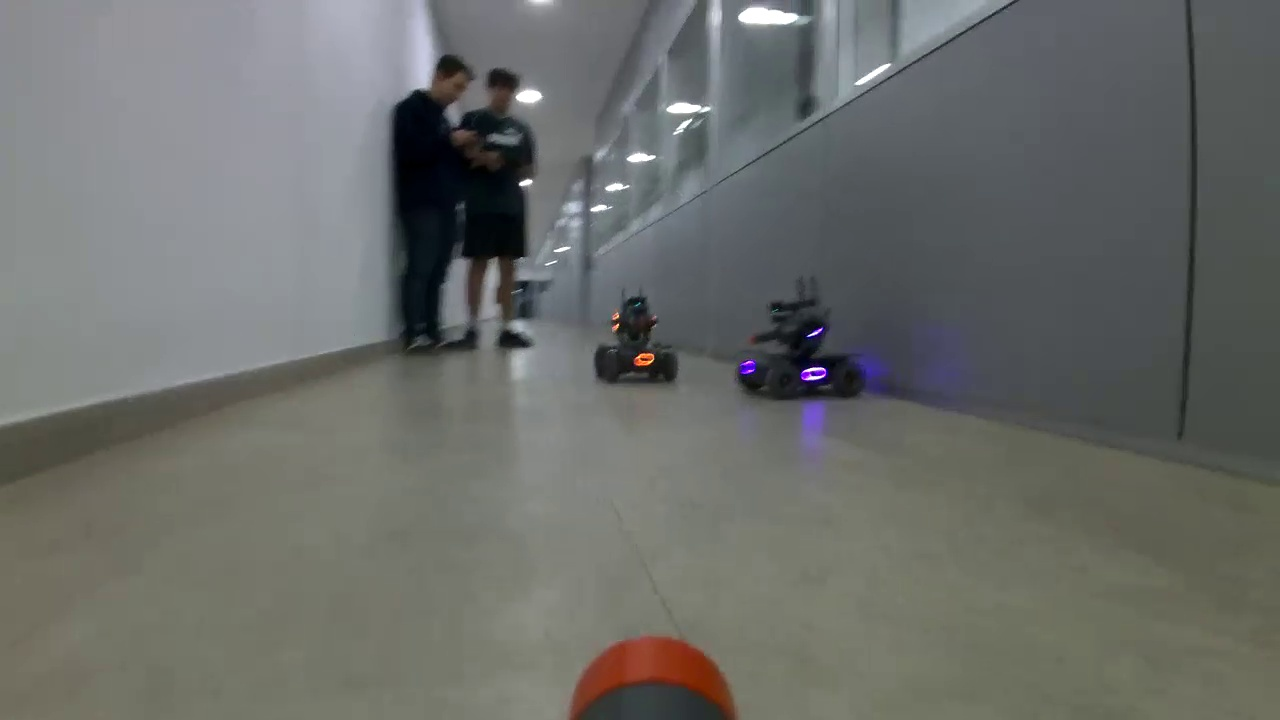robot: (734, 298, 868, 400), (593, 296, 680, 386)
